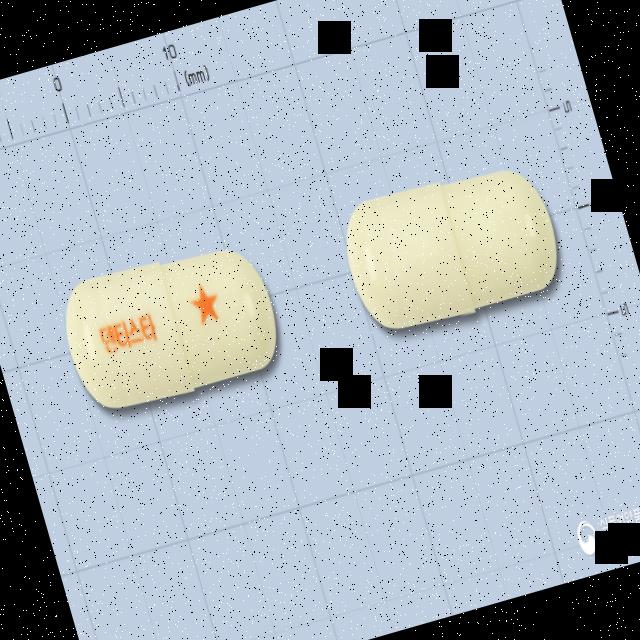Dentistar Cap: (50, 228, 291, 422)
